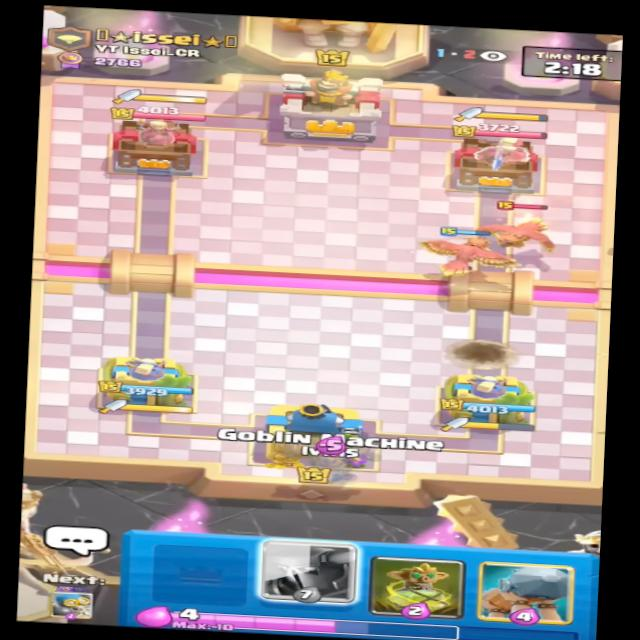phoenix: (466, 200, 580, 254)
